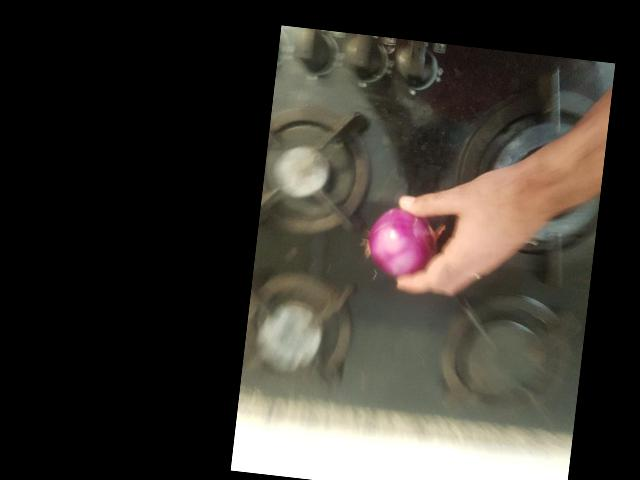onion: (308, 305, 375, 372)
